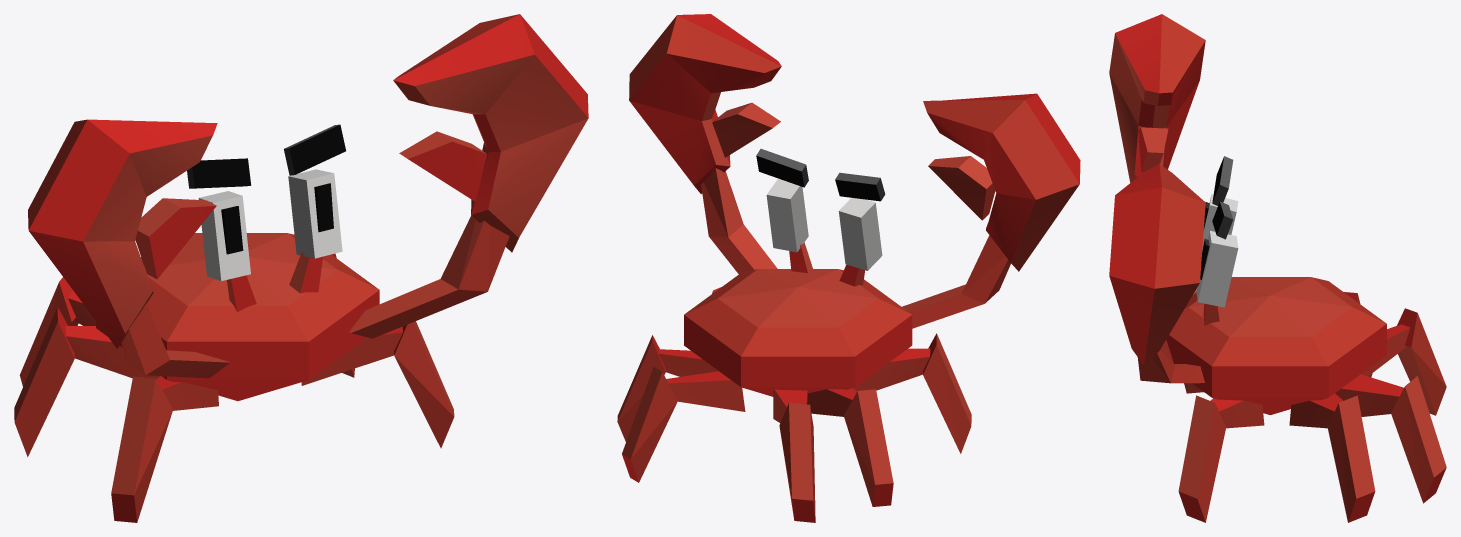
The picture shows the model from 3 angles, left to right: view 1: azimuth 30°, elevation 25°; view 2: azimuth 150°, elevation 25°; view 3: azimuth 270°, elevation 25°; orthographic projection. The views are drawn at different scales.
Parts seen in each view (by area): view 1: crab_claw, crab_body, crab_legs, crab_claw2, crab_eyes, crab_eyes2, crab_eyes1; view 2: crab_claw, crab_body, crab_legs, crab_claw2, crab_eyes, crab_eyes2, crab_eyes1; view 3: crab_claw, crab_body, crab_legs, crab_eyes, crab_claw2, crab_eyes2.
Part boxes in pixels (x1,y1,x2,y2): crab_claw: (28,14,588,348); crab_body: (96,233,379,401); crab_legs: (14,253,454,522); crab_claw2: (121,215,509,378); crab_eyes: (198,169,342,281); crab_eyes2: (187,124,345,254); crab_eyes1: (227,252,322,311); crab_claw: (629,14,1080,271); crab_body: (684,269,912,401); crab_legs: (617,287,971,522); crab_claw2: (701,168,1010,328); crab_eyes: (766,178,882,270); crab_eyes2: (756,148,885,201); crab_eyes1: (789,242,865,286); crab_claw: (1109,14,1205,365); crab_body: (1166,277,1386,415); crab_legs: (1178,292,1446,522); crab_eyes: (1196,194,1238,307); crab_claw2: (1137,290,1204,383); crab_eyes2: (1200,156,1233,279).
Bounding box in the file's own units: 3.05 × 2.26 × 1.94.
1 material, 1 textured.
